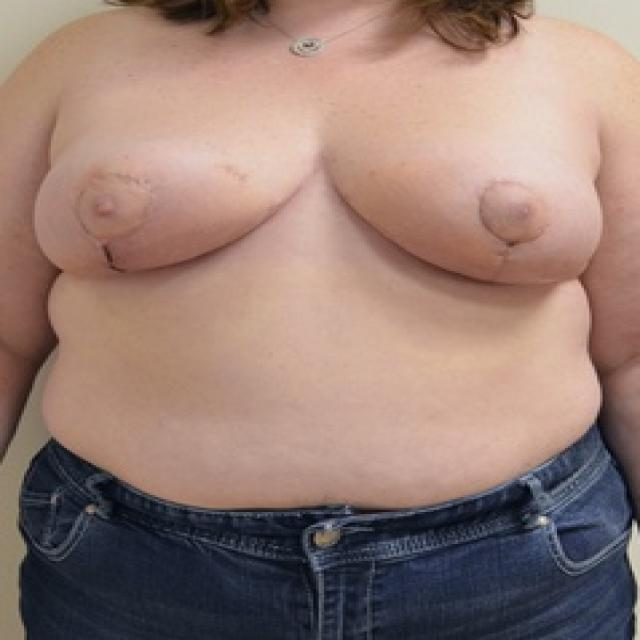Seno herido: (322, 77, 617, 306), (22, 78, 317, 296)
